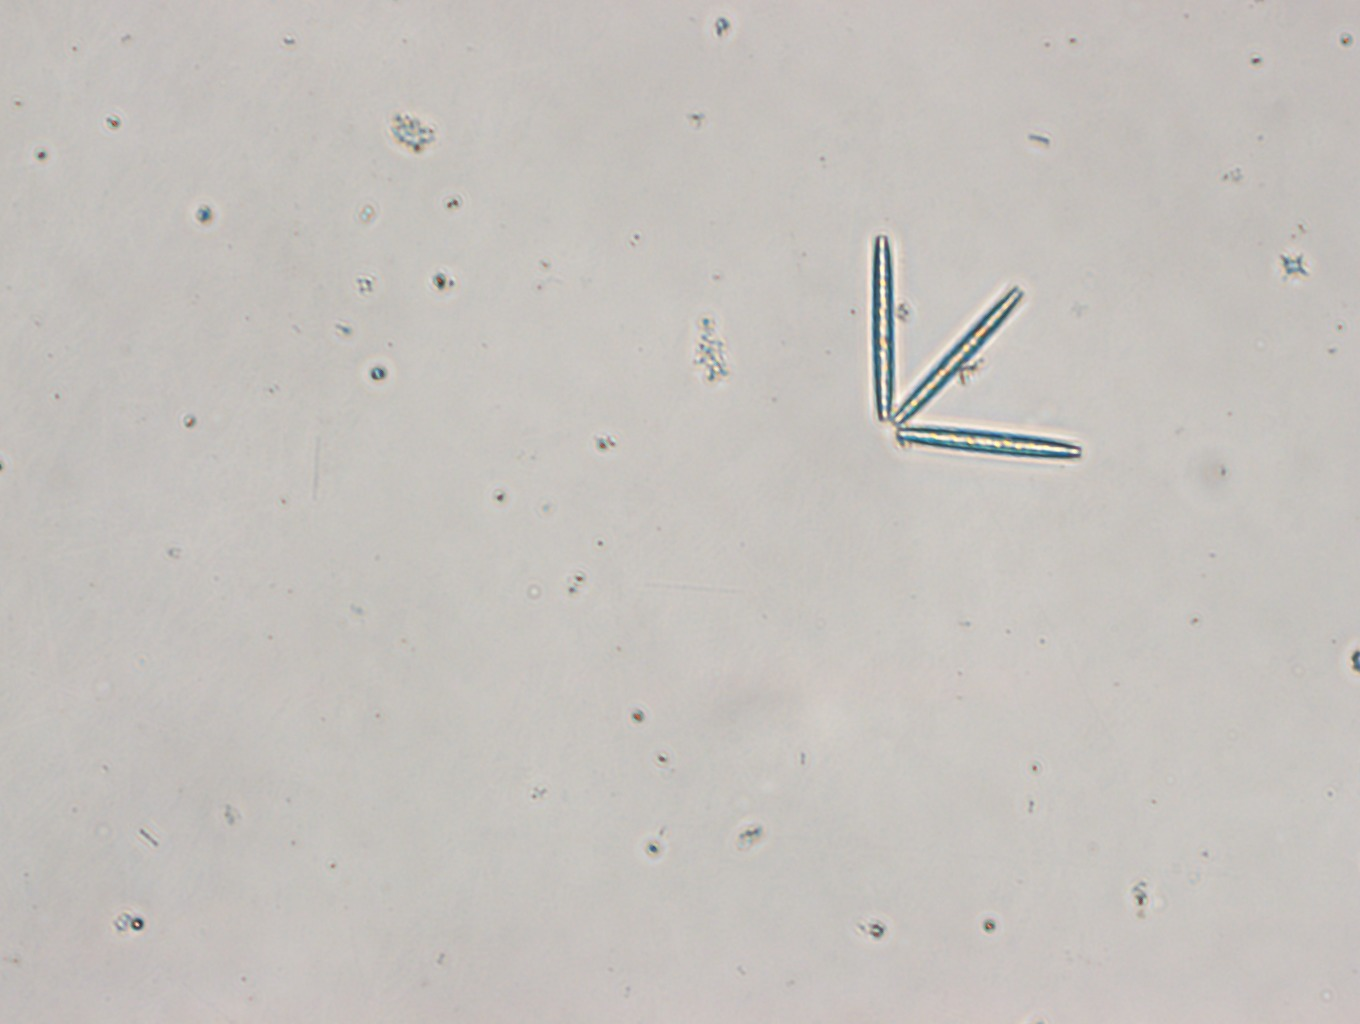thalassionema nitzschioides: (869, 232, 1083, 463)
